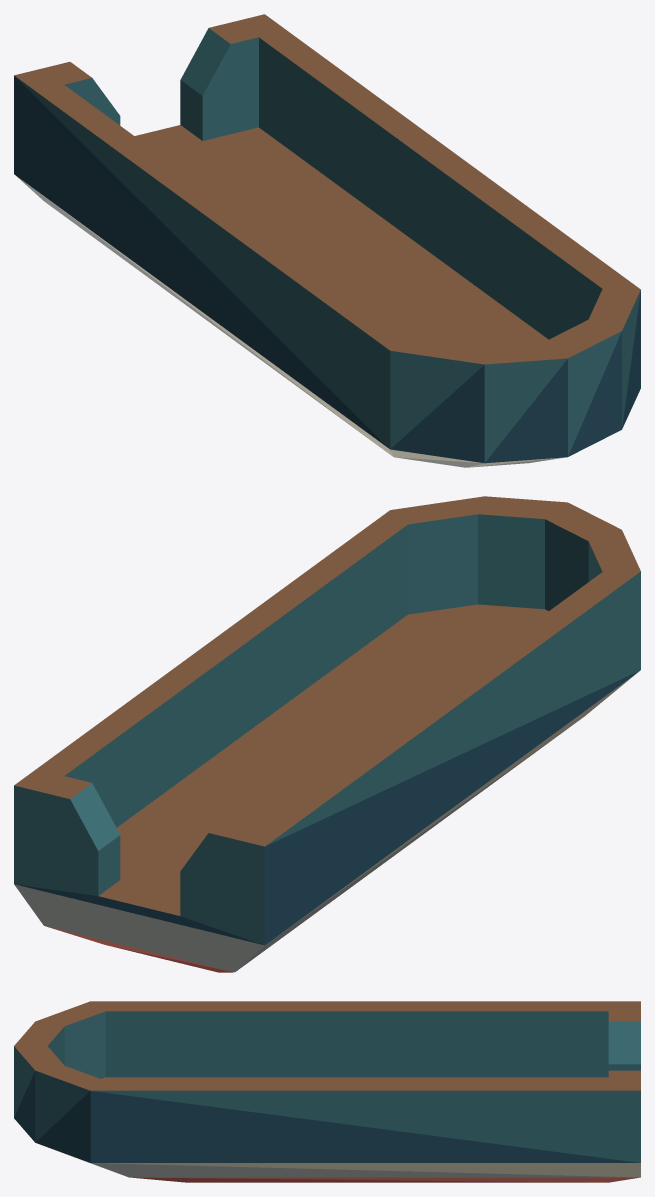
Rendered from CascoKenney.fbx.
3 renders of one model, top to bottom at view 1: azimuth 30°, elevation 25°; view 2: azimuth 150°, elevation 25°; view 3: azimuth 270°, elevation 25°, orthographic. The views are drawn at different scales.
Parts seen in each view (by area): view 1: Surf_BoatBlue, Surf_DeckTeak, Surf_BoatBlueDark, Surf_HullCream, Surf_HullShade; view 2: Surf_BoatBlue, Surf_DeckTeak, Surf_BoatBlueDark, Surf_HullShade, Surf_HullCream; view 3: Surf_BoatBlue, Surf_BoatBlueDark, Surf_DeckTeak, Surf_HullCream, Surf_HullShade, Surf_KeelLight, Surf_Keel.
Part boxes in pixels (x1,y1,x2,y2): Surf_BoatBlue: [14, 28, 640, 462]; Surf_DeckTeak: [14, 14, 640, 364]; Surf_BoatBlueDark: [14, 76, 640, 463]; Surf_HullCream: [28, 184, 564, 467]; Surf_HullShade: [14, 174, 565, 467]; Surf_BoatBlue: [14, 514, 640, 945]; Surf_DeckTeak: [14, 496, 640, 915]; Surf_BoatBlueDark: [15, 670, 639, 944]; Surf_HullShade: [14, 724, 573, 972]; Surf_HullCream: [275, 671, 639, 937]; Surf_BoatBlue: [14, 1011, 640, 1162]; Surf_BoatBlueDark: [14, 1071, 638, 1162]; Surf_DeckTeak: [14, 1001, 640, 1090]; Surf_HullCream: [67, 1154, 640, 1177]; Surf_HullShade: [82, 1160, 639, 1177]; Surf_KeelLight: [158, 1177, 638, 1182]; Surf_Keel: [133, 1177, 587, 1182].
Size of the model in its own units: 2.45 by 1.48 by 7.24.
